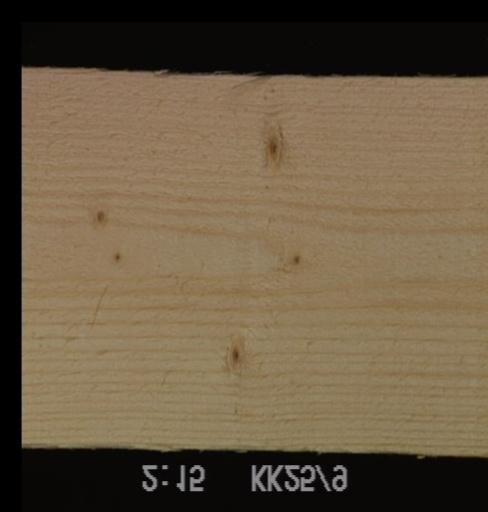small_knot: (220, 336, 247, 376), (89, 205, 113, 229), (284, 248, 305, 273), (106, 244, 126, 268)
sound_knot: (254, 120, 289, 170)
